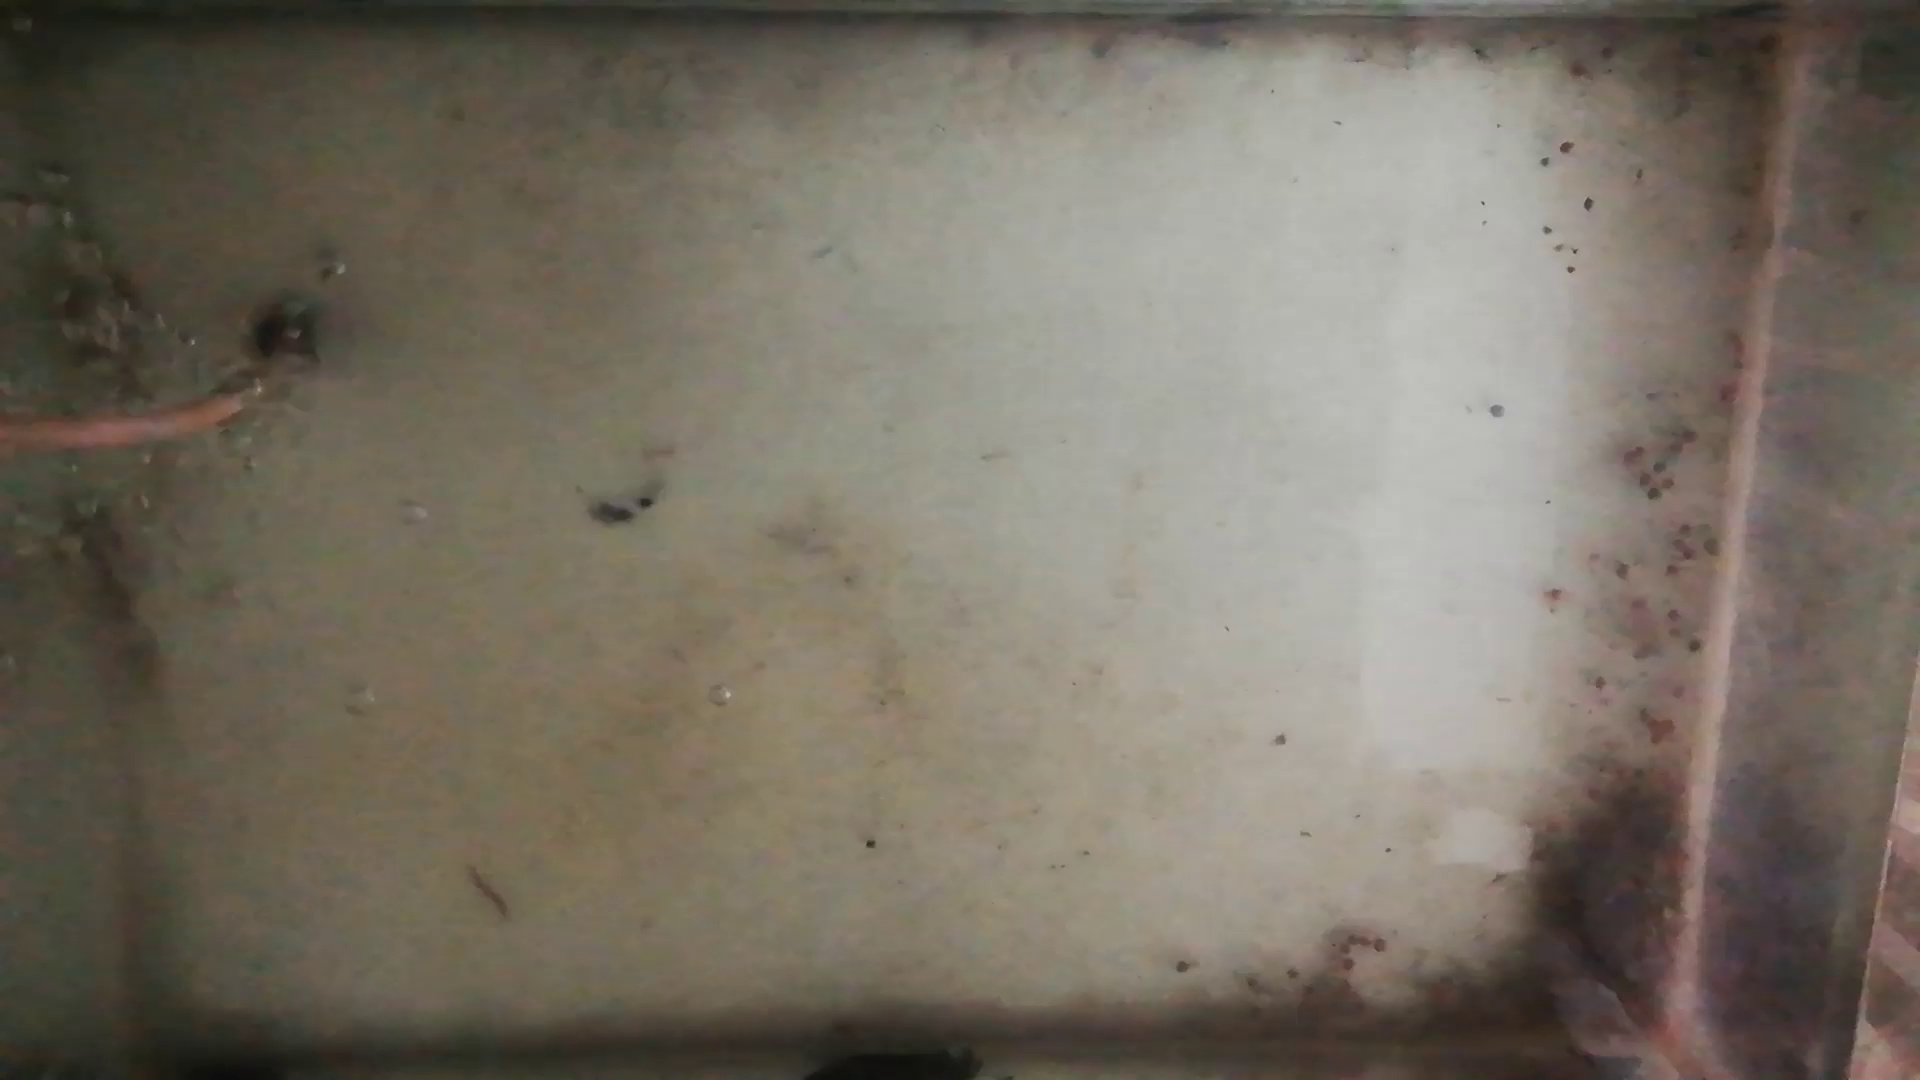fish: (55, 487, 167, 676), (44, 195, 144, 398)
